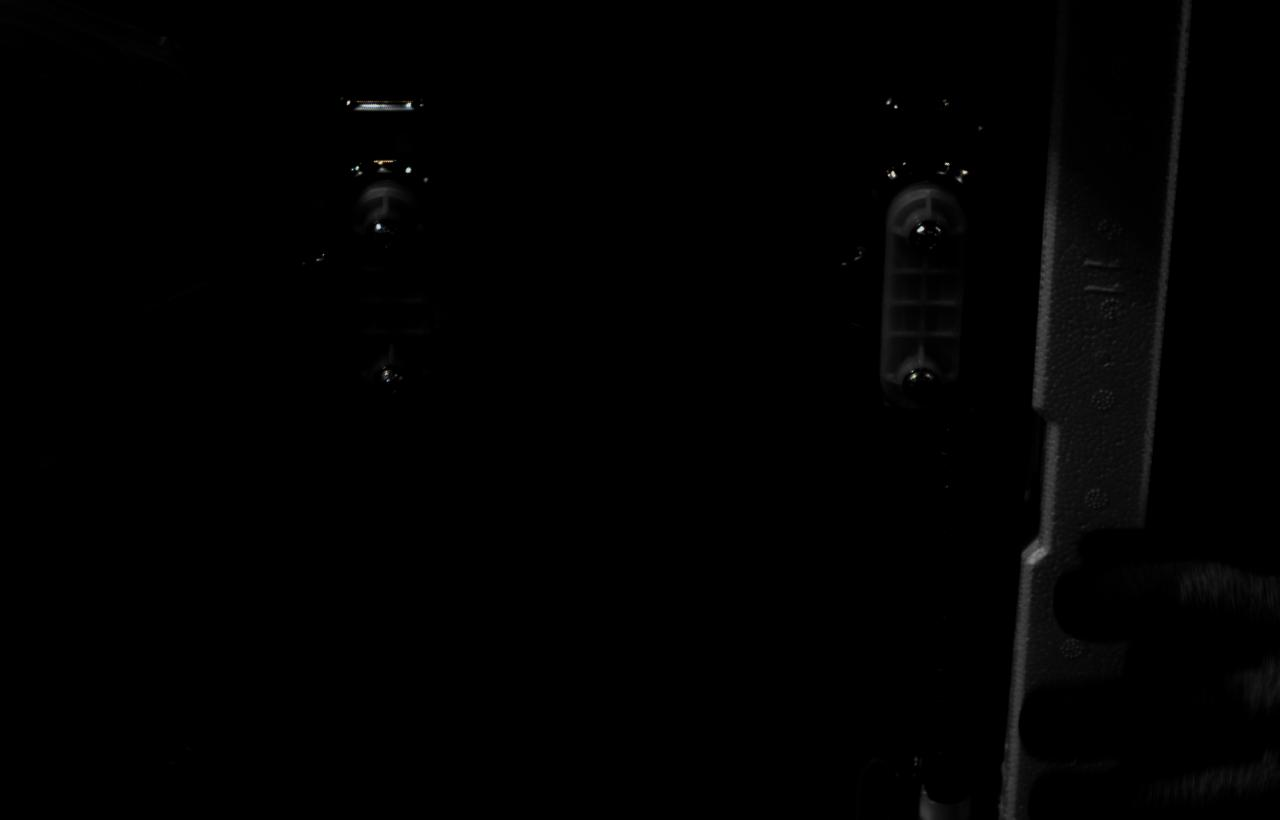vida-ok: (902, 368, 942, 405), (909, 219, 948, 256), (373, 366, 408, 403), (368, 219, 402, 253)
